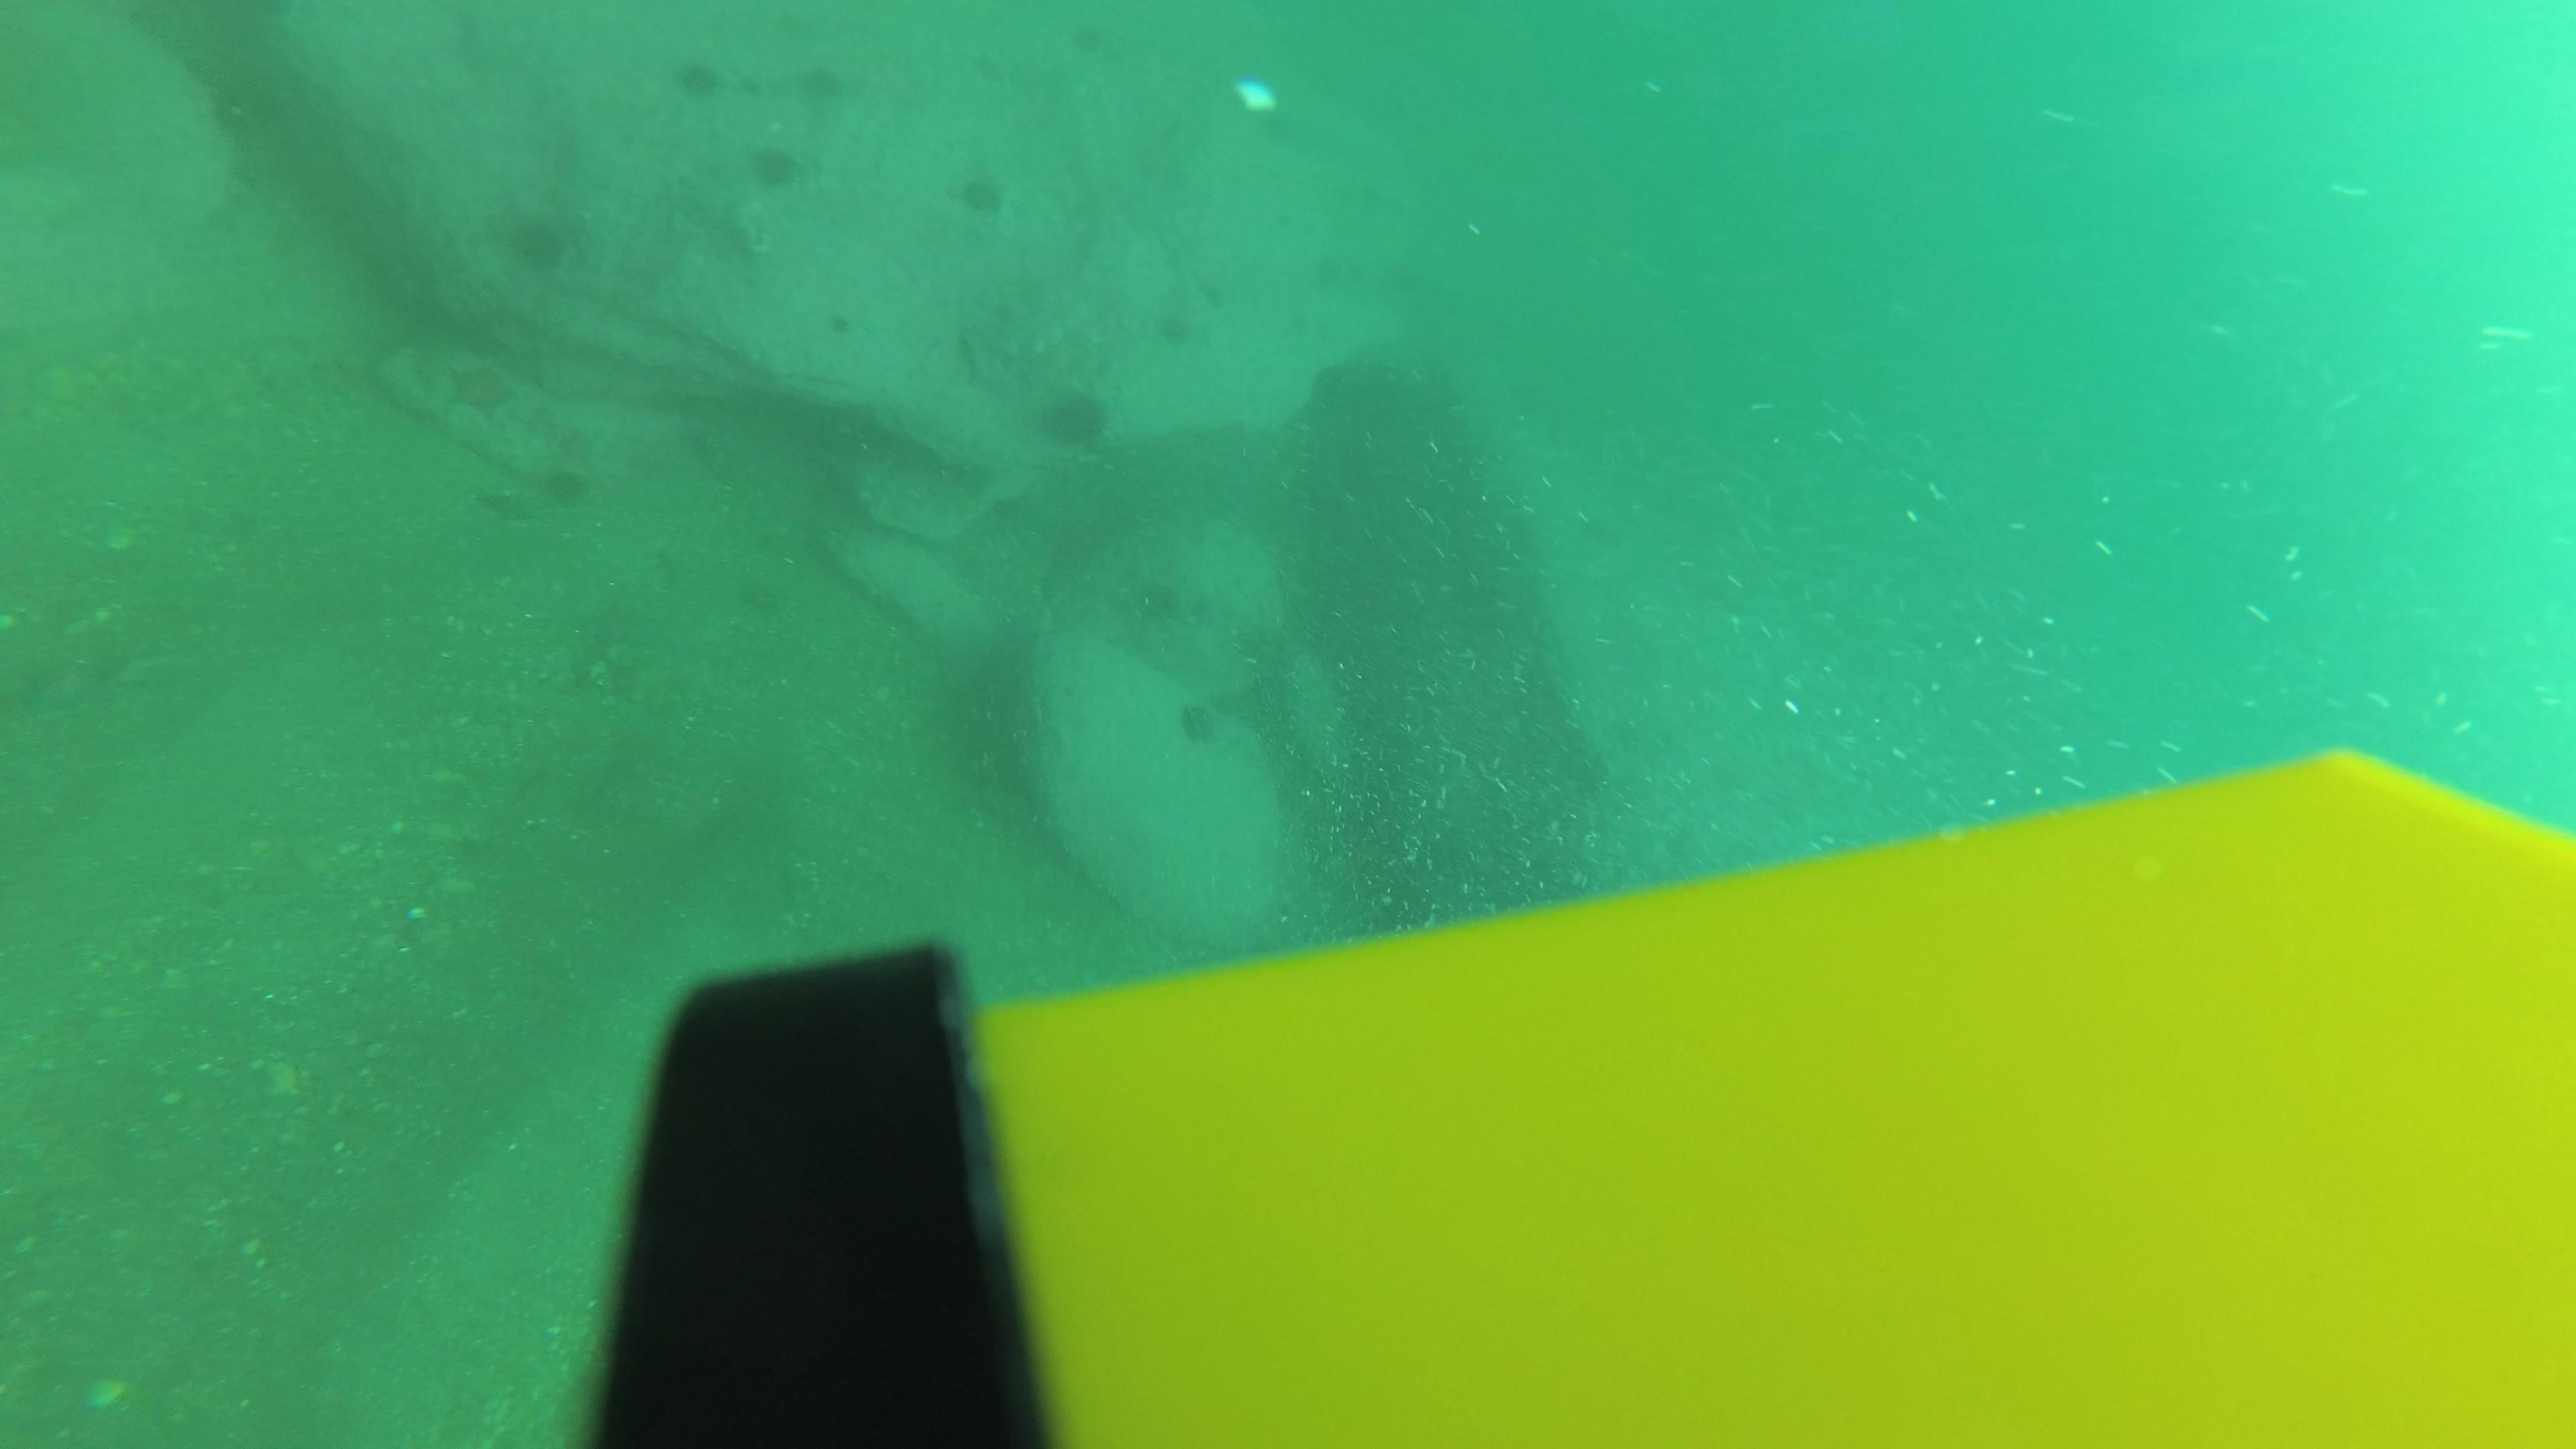echinus: (1033, 380, 1115, 453), (497, 203, 579, 276), (748, 136, 805, 195), (952, 163, 1008, 219), (794, 57, 849, 108), (669, 50, 722, 101), (1175, 694, 1221, 750), (1131, 563, 1177, 617)
starfish: (442, 347, 525, 419)
